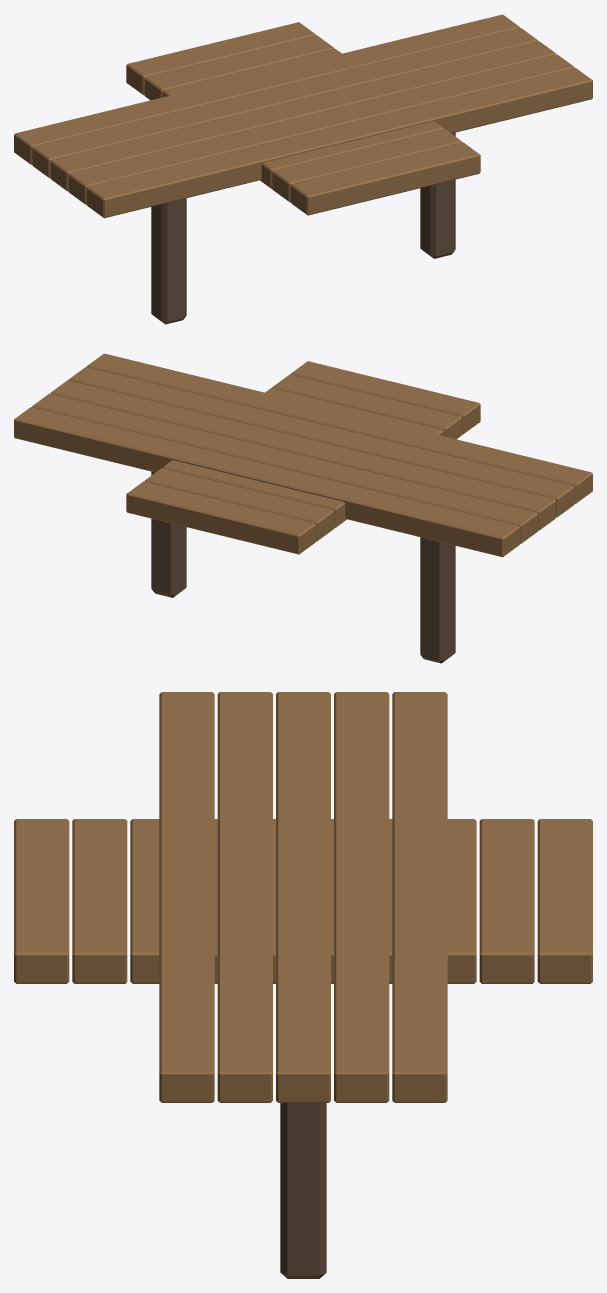
The model's file is harbor-pier-cross.lod0.glb.
3 renders of one model, top to bottom at view 1: azimuth 30°, elevation 25°; view 2: azimuth 150°, elevation 25°; view 3: azimuth 270°, elevation 25°, orthographic. The views are drawn at different scales.
Visible parts, largest first — view 1: harbor-pier-cross__body; view 2: harbor-pier-cross__body; view 3: harbor-pier-cross__body.
Part boxes in pixels (<box>): harbor-pier-cross__body: <box>14,14,592,324</box>; harbor-pier-cross__body: <box>14,353,592,663</box>; harbor-pier-cross__body: <box>14,692,592,1278</box>.
Size of the model in its own units: 3.1 by 1.08 by 1.99.
